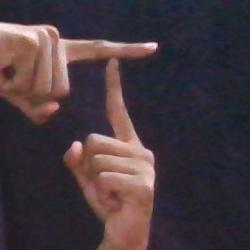T: (0, 6, 190, 250)
